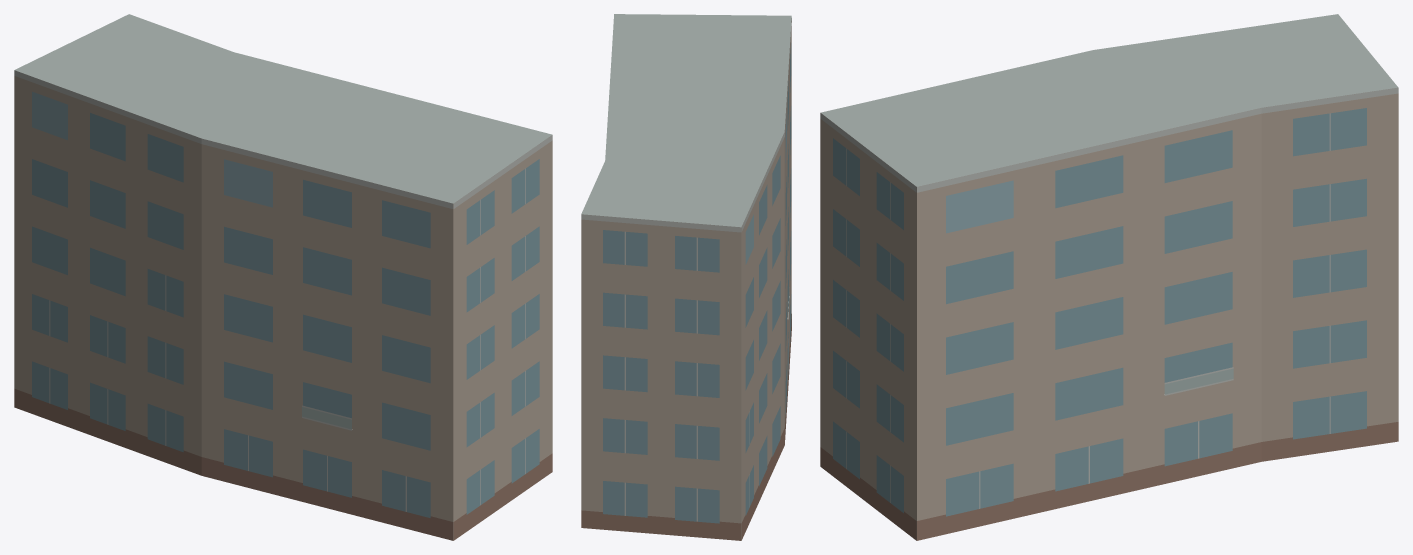
File: survey-upis-32979868.glb
The picture shows the model from 3 angles, left to right: view 1: azimuth 30°, elevation 25°; view 2: azimuth 150°, elevation 25°; view 3: azimuth 270°, elevation 25°; orthographic projection. The views are drawn at different scales.
Visible parts, largest first — view 1: survey-upis-32979868.tmp; view 2: survey-upis-32979868.tmp; view 3: survey-upis-32979868.tmp.
Part boxes in pixels (<box>): survey-upis-32979868.tmp: <box>14,14,552,540</box>; survey-upis-32979868.tmp: <box>581,14,791,540</box>; survey-upis-32979868.tmp: <box>820,14,1398,540</box>.
Size of the model in its own units: 15.31 by 14.6 by 21.62.
